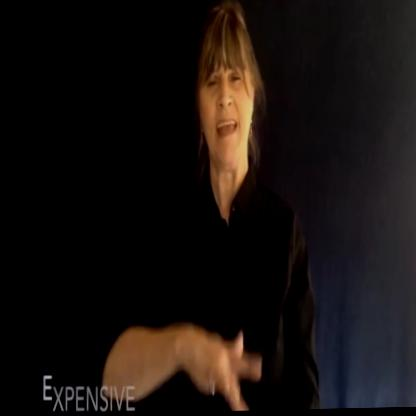Expensive: (167, 280, 268, 413)
